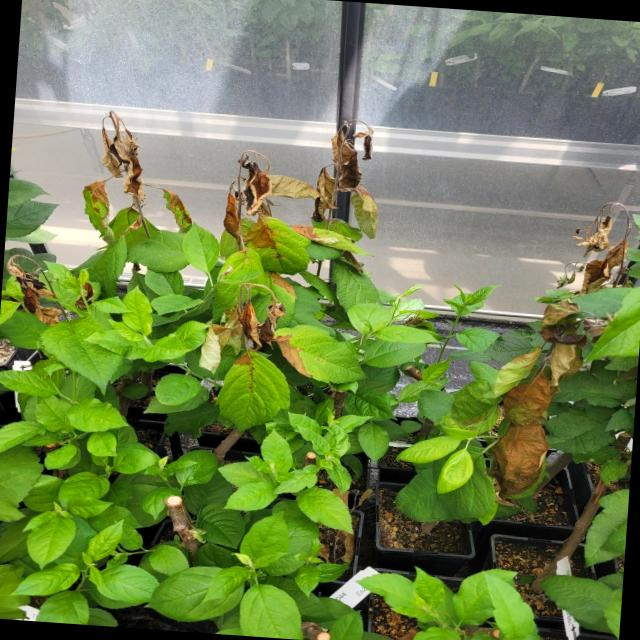-FireBlight-: (486, 210, 630, 502), (222, 119, 377, 252), (196, 283, 313, 387), (83, 108, 145, 247), (3, 249, 63, 326)
